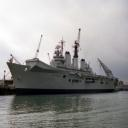Portanaves: (6, 39, 122, 97)
